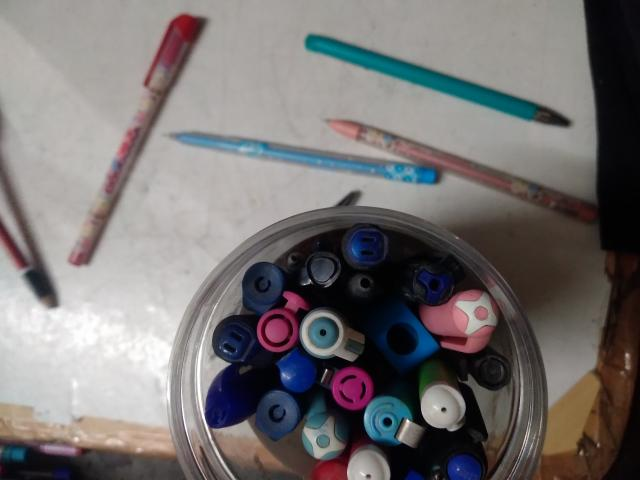PEN: (208, 68, 480, 203), (277, 164, 376, 480)
